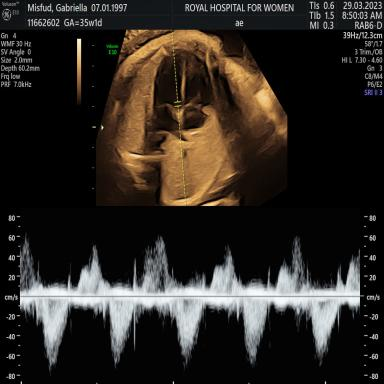Ultrasound-Waves: (25, 215, 359, 384)
